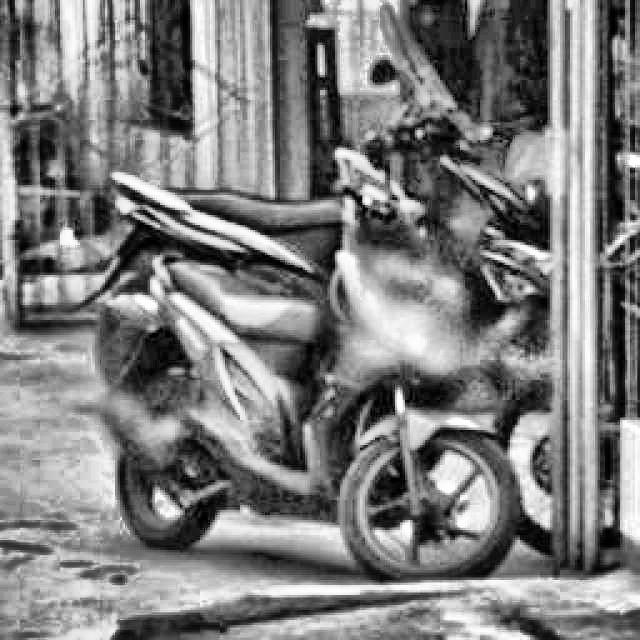motorcycle: (39, 142, 533, 592)
